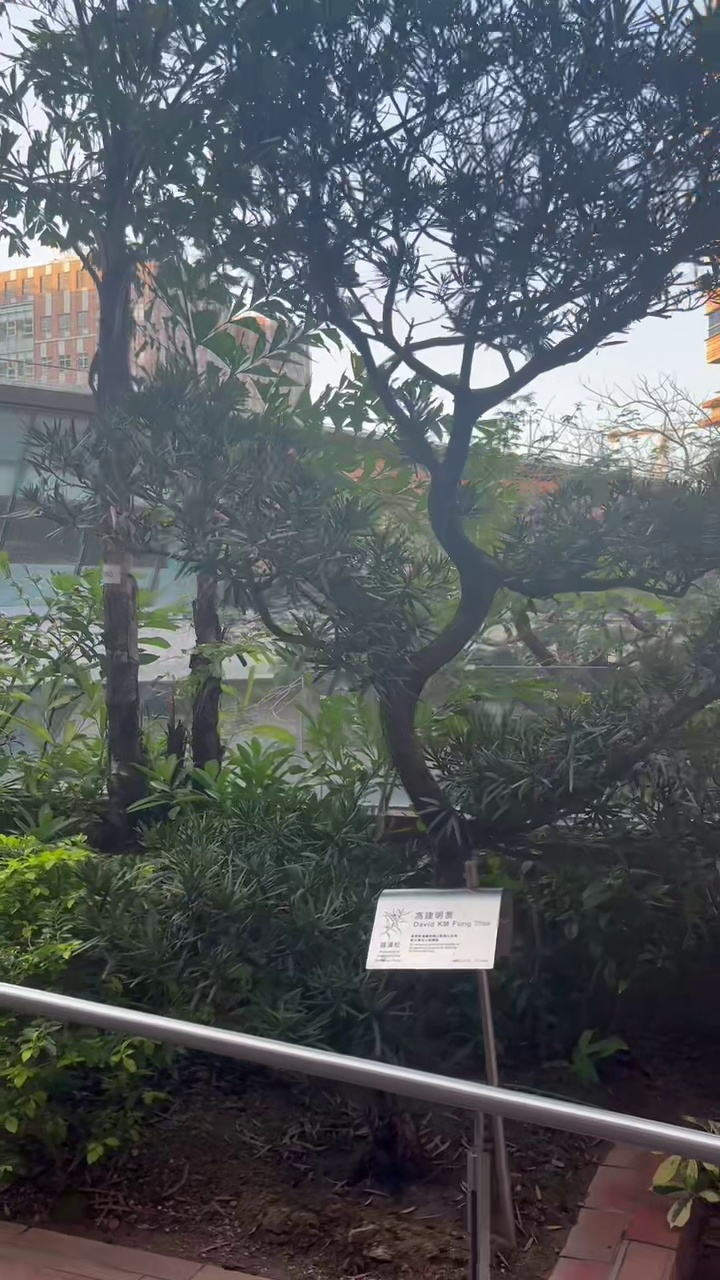Podocarpus macrophyllus: (23, 0, 719, 873)
